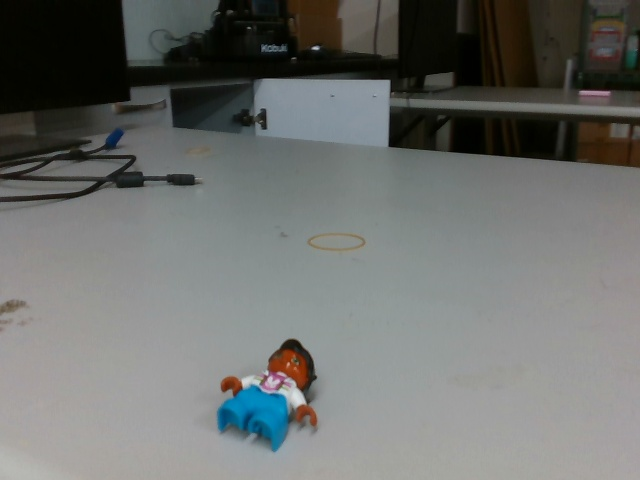people: (218, 338, 325, 452)
